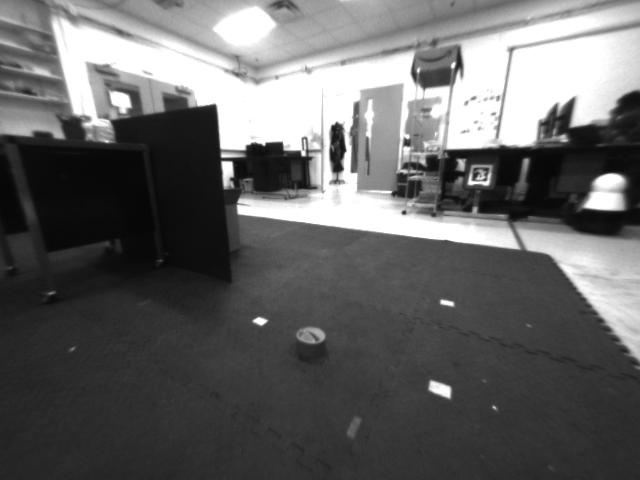dogtoy: (276, 316, 346, 376)
